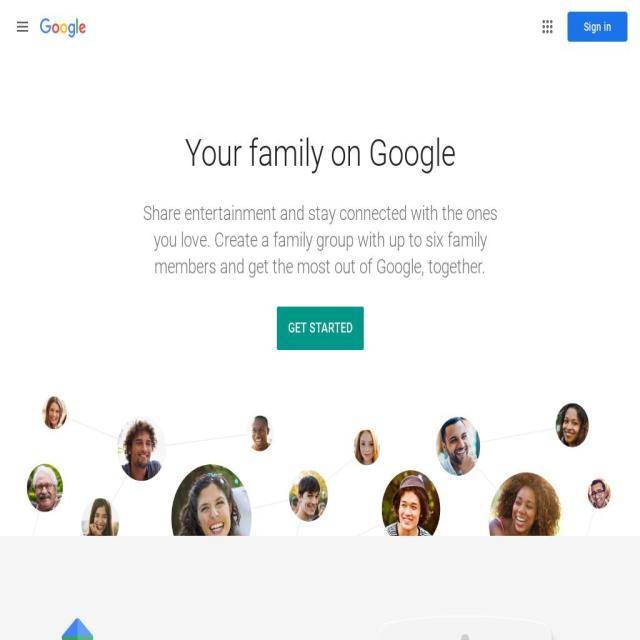button: (276, 307, 364, 350), (568, 12, 628, 42), (8, 6, 38, 46), (535, 10, 560, 43)
image: (0, 386, 640, 536), (348, 616, 582, 640), (58, 616, 98, 640), (15, 16, 30, 36), (540, 16, 555, 36)
text: (132, 54, 508, 174), (132, 200, 508, 280), (288, 320, 352, 337)
